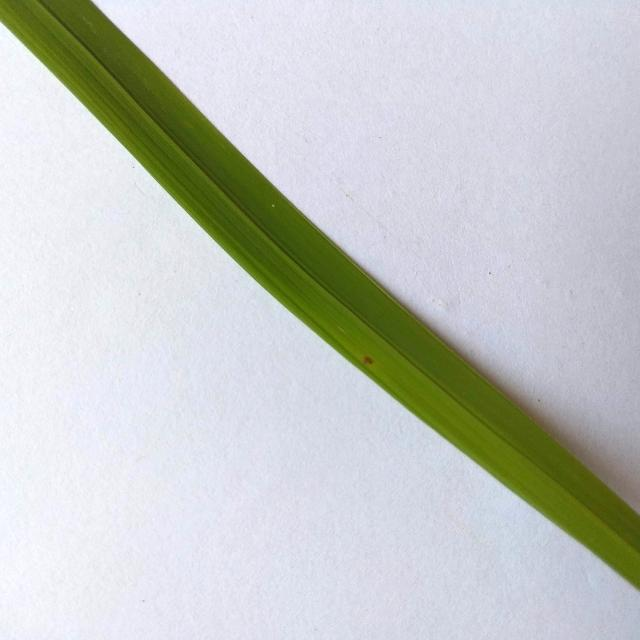brownspots: (361, 346, 381, 369)
